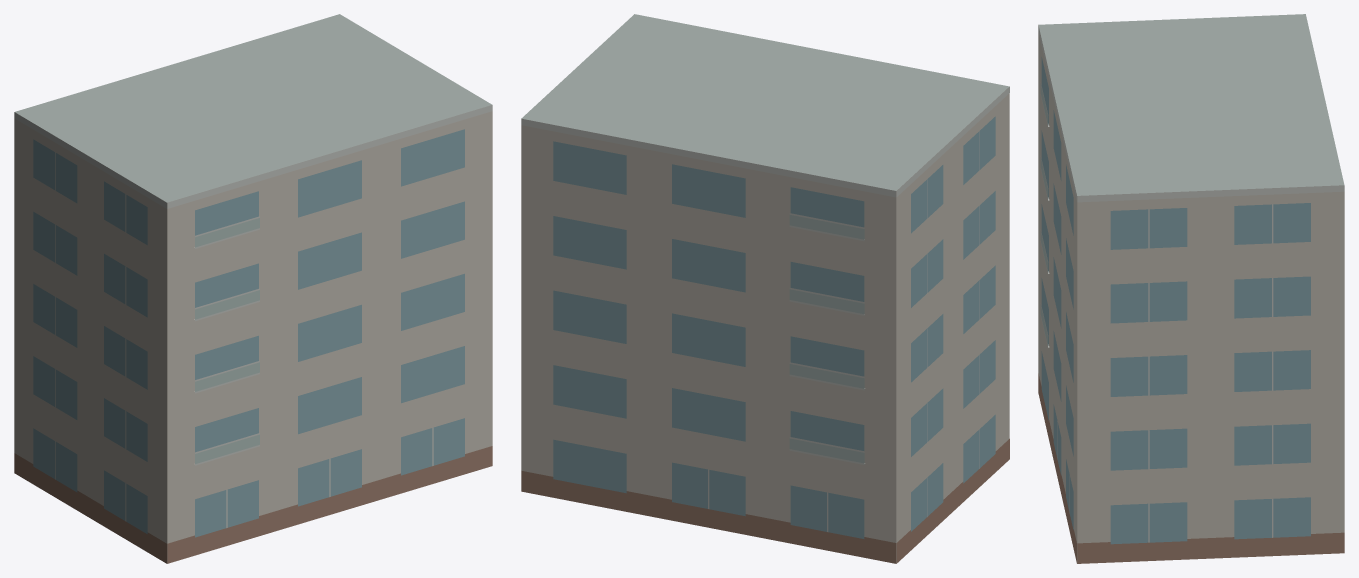
The model's file is survey-upis-33012693.glb.
3 views of the same model, side by side, from view 1: azimuth 30°, elevation 25°; view 2: azimuth 150°, elevation 25°; view 3: azimuth 270°, elevation 25° (orthographic). The views are drawn at different scales.
Visible parts, largest first — view 1: survey-upis-33012693.tmp; view 2: survey-upis-33012693.tmp; view 3: survey-upis-33012693.tmp.
Part boxes in pixels (left/top/right/bottom): survey-upis-33012693.tmp: left=14, top=14, right=492, bottom=563; survey-upis-33012693.tmp: left=521, top=14, right=1009, bottom=563; survey-upis-33012693.tmp: left=1038, top=14, right=1344, bottom=563.
Size of the model in its own units: 14.8 by 13.95 by 10.53.
